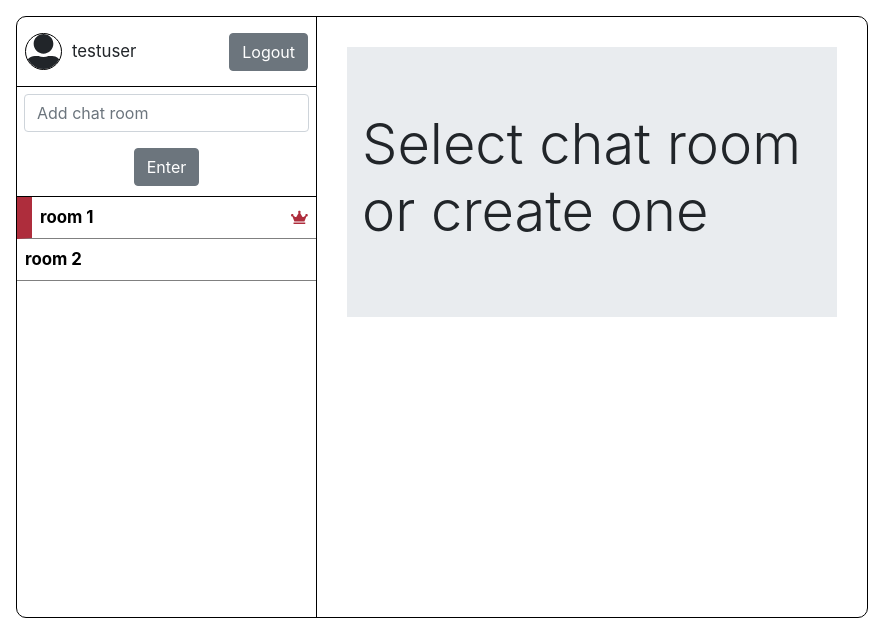
Test case: add room to list
This screenshot has width=885, height=635.
Type "new room" into the field.
click(166, 113); type("new room")  # box left=24, top=94, right=309, bottom=132
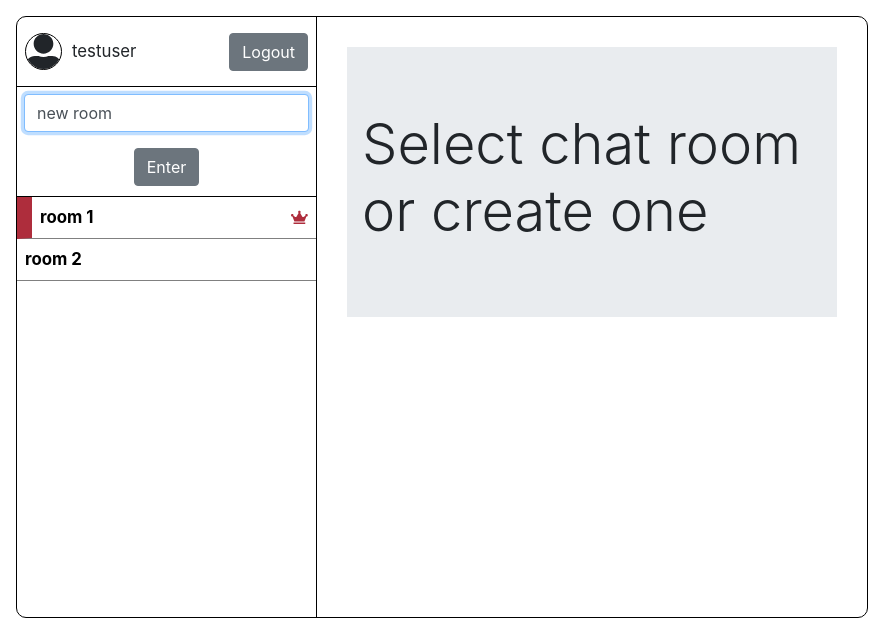
Click the button "Enter".
click(167, 167)  # box left=134, top=148, right=199, bottom=186
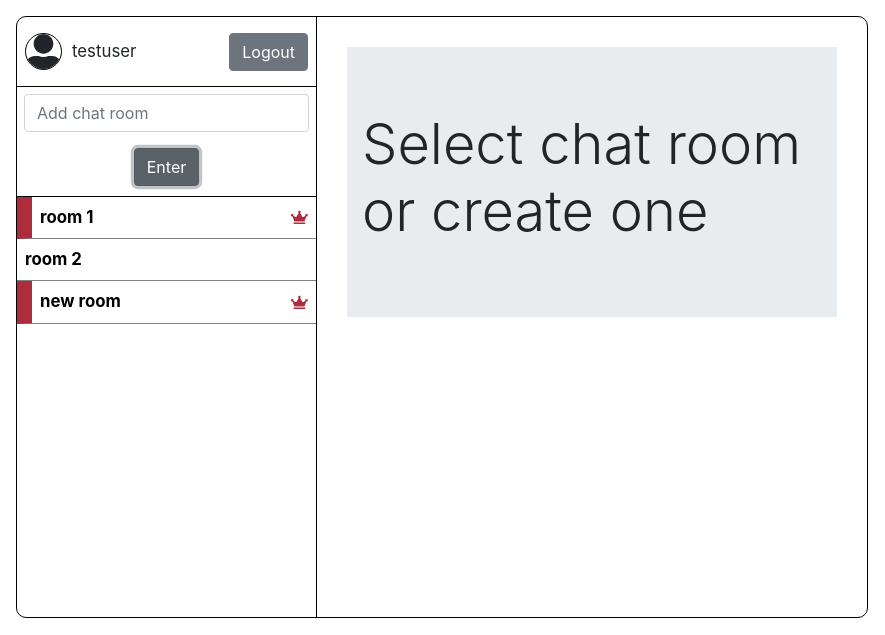
Check: the button "new room" is shown, box left=17, top=281, right=316, bottom=324
